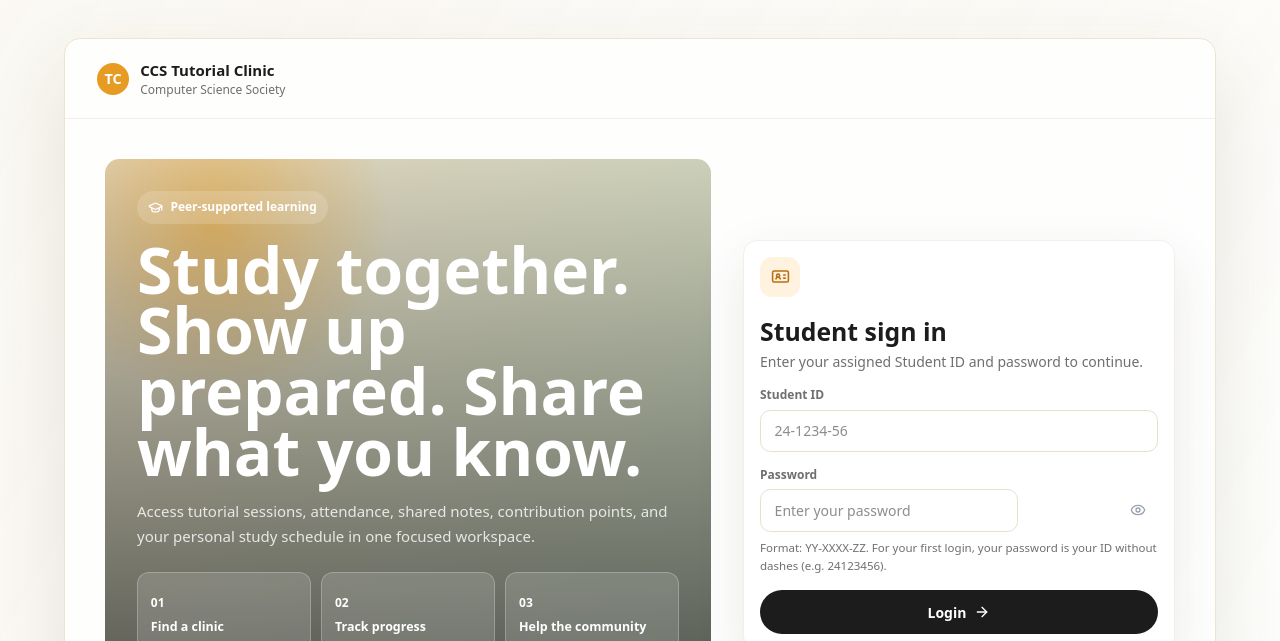
core front-end demo workflows › requires first-login account setup and persists completion
Type "2024-00421" into the field labelled "Student ID" at coordinates (959, 431), box [760,410,1158,452]
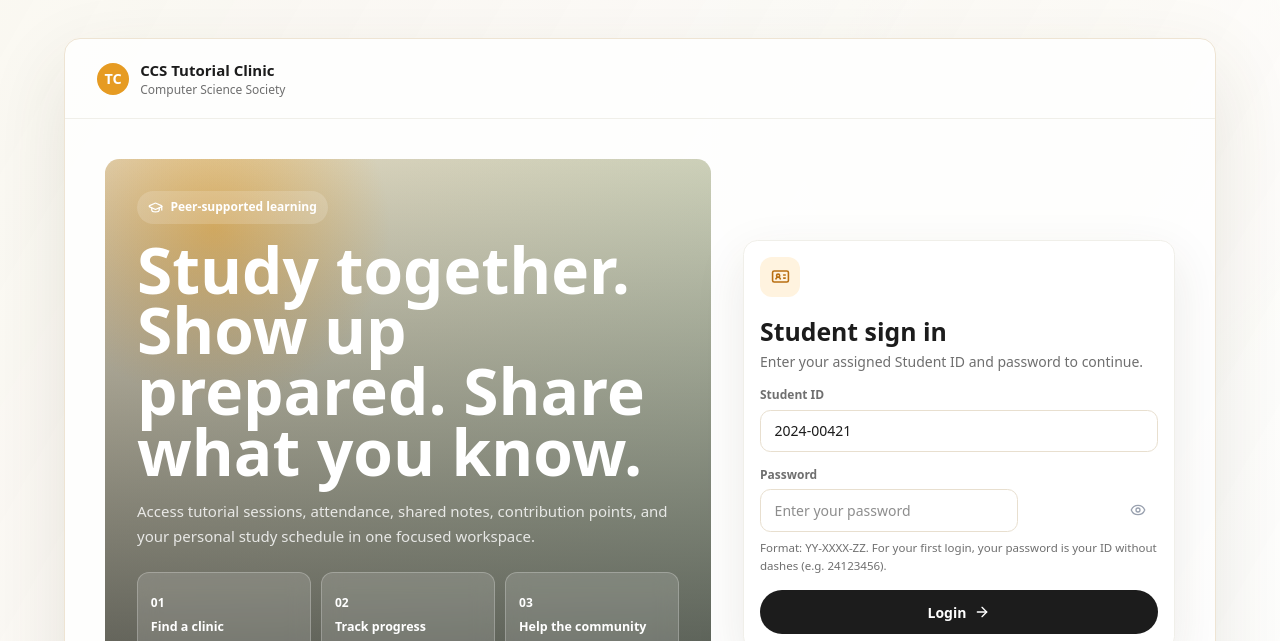
Type "202400421" into the password field labelled "Password" at coordinates (889, 510), box [760,489,1018,532]
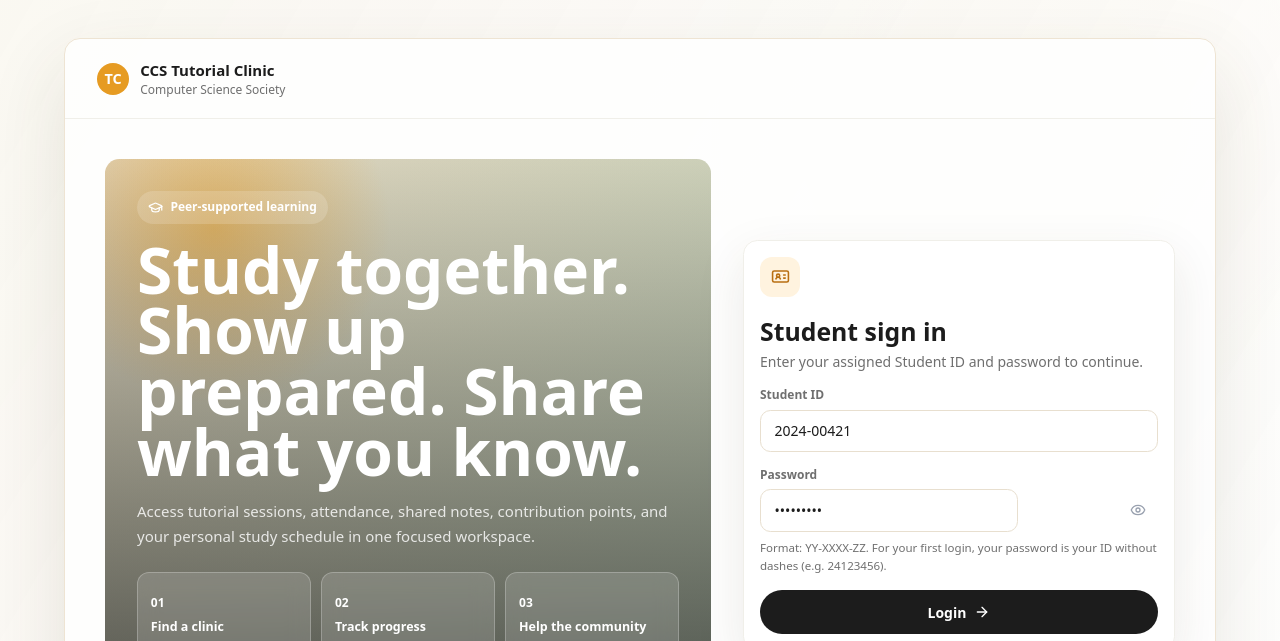
Click the button "Login" at coordinates (959, 612), box [760,590,1158,634]
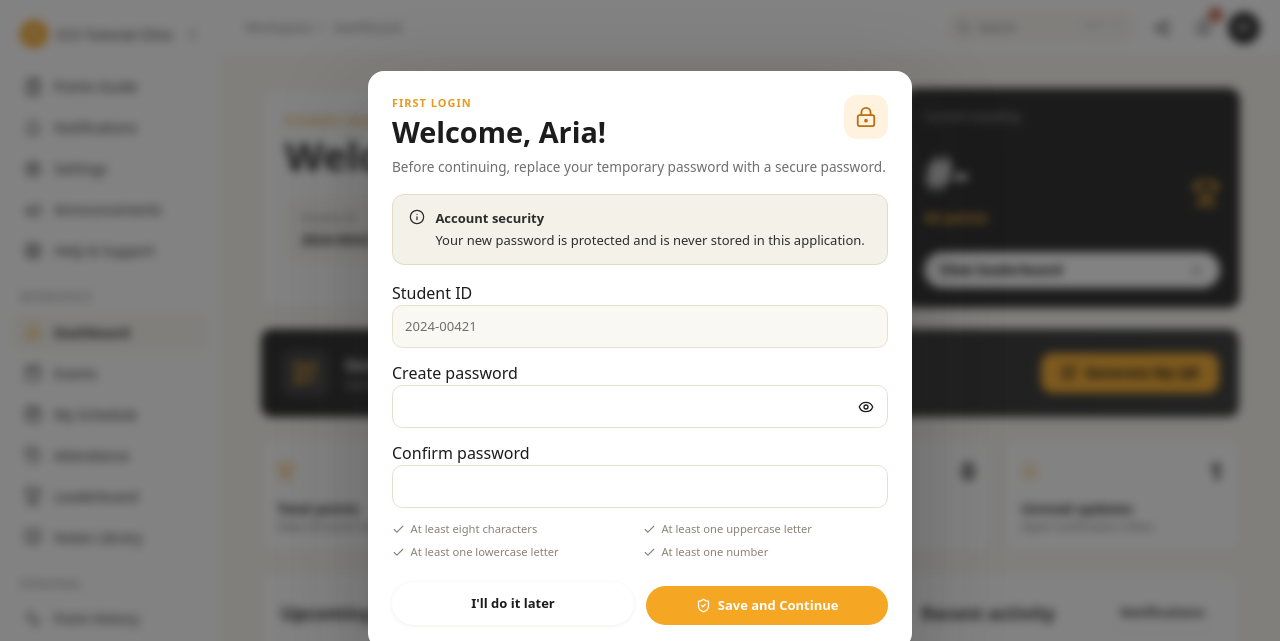
Expected: the heading "Welcome, Aria!" is shown, [392,112,606,151]
Type "SecurePass1" into the password field labelled "Create password" at coordinates (640, 407), box [392,385,888,428]
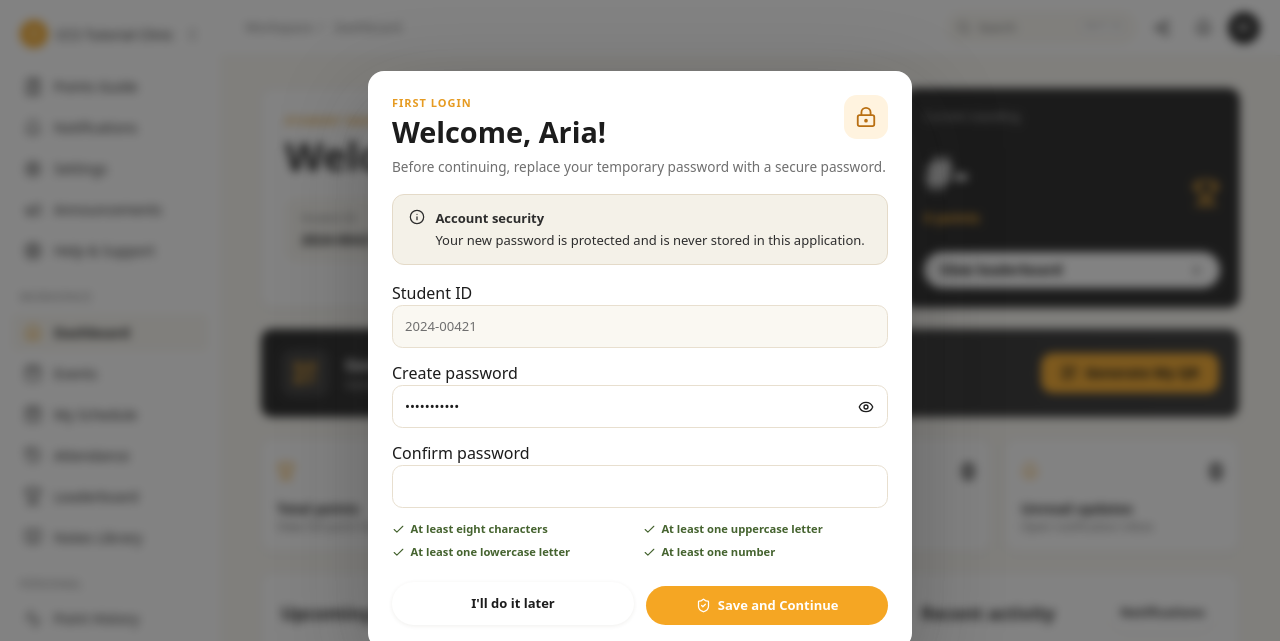
Type "SecurePass1" into the password field labelled "Confirm password" at coordinates (640, 487), box [392,465,888,508]
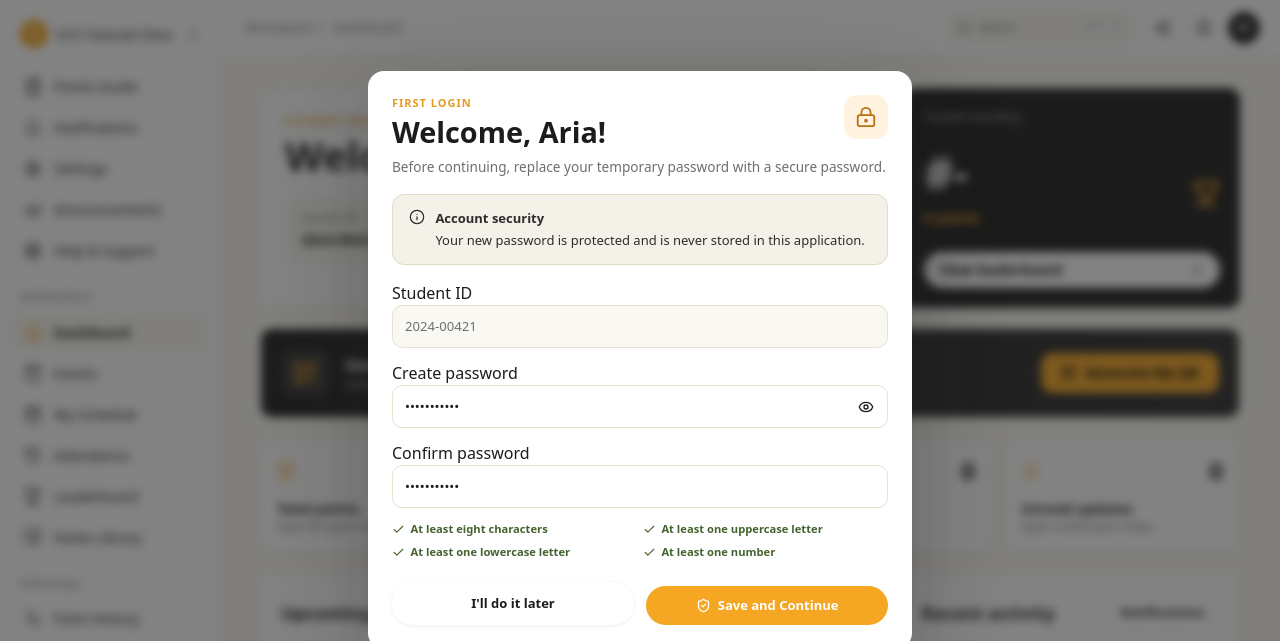
Click the button "Save and Continue" at coordinates (767, 606), box [646,586,888,625]
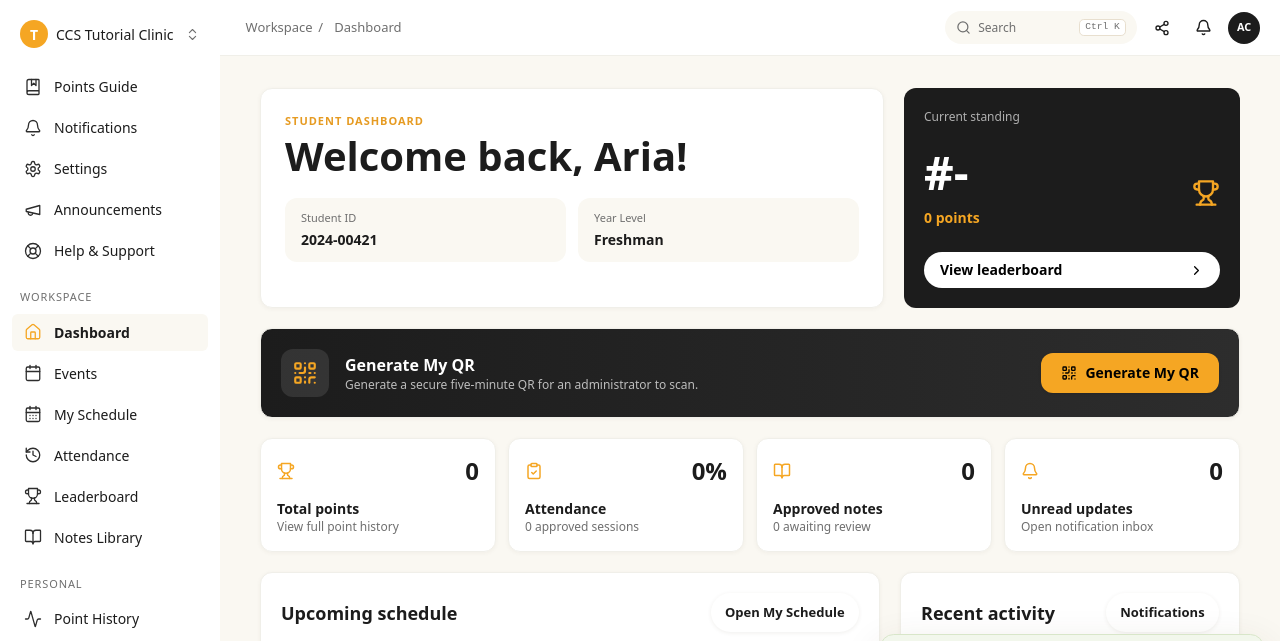
Expected: the heading "Welcome, Aria" is gone
